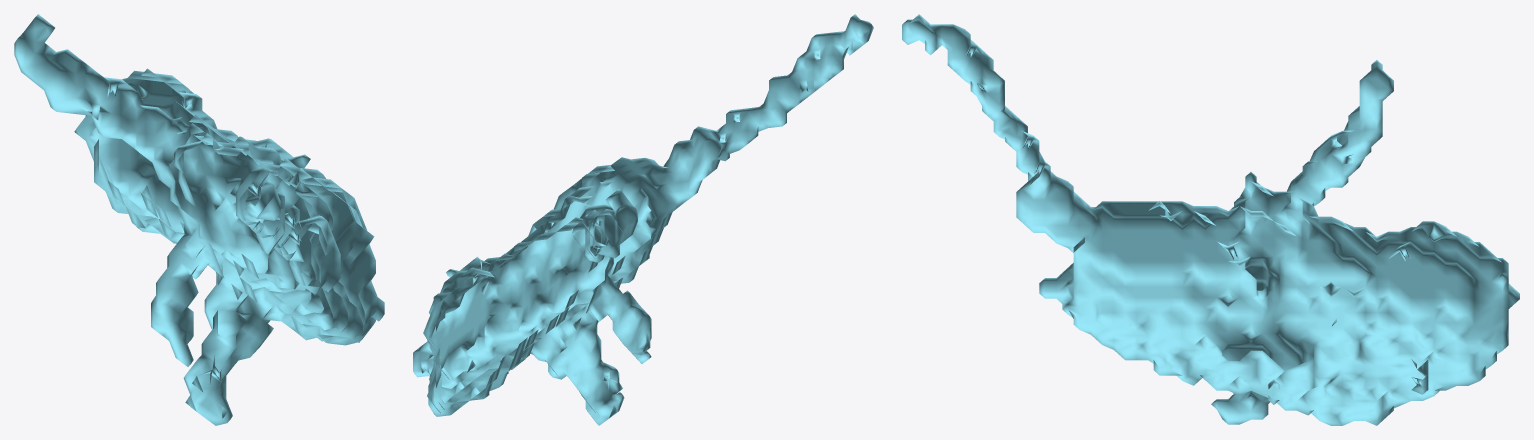
File: osteocyte_69.glb
The picture shows the model from 3 angles, left to right: view 1: azimuth 30°, elevation 25°; view 2: azimuth 150°, elevation 25°; view 3: azimuth 270°, elevation 25°; orthographic projection. The views are drawn at different scales.
Visible parts, largest first — view 1: osteocyte_69; view 2: osteocyte_69; view 3: osteocyte_69.
Part boxes in pixels (x1=…): osteocyte_69: x1=14, y1=14, x2=384, y2=425; osteocyte_69: x1=413, y1=14, x2=873, y2=425; osteocyte_69: x1=902, y1=14, x2=1519, y2=425.
Size of the model in its own units: 12.52 by 16.37 by 26.
